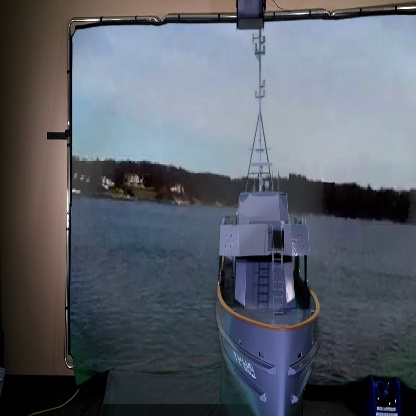YP689: (213, 27, 323, 416)
